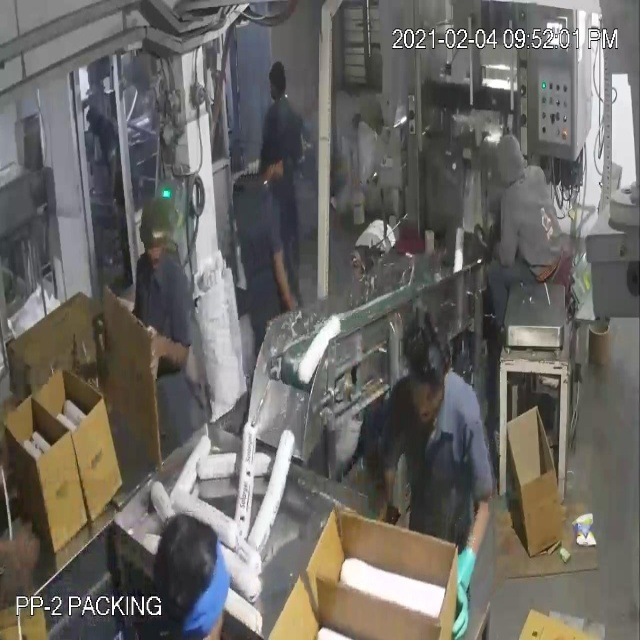Guantes: (445, 525, 480, 640)
Sin_guantes: (139, 316, 191, 393), (1, 501, 46, 586), (272, 226, 304, 324)
